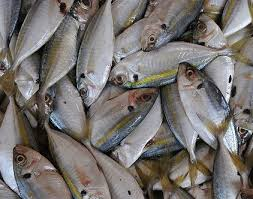Ikan Selar: (108, 41, 243, 87), (175, 59, 234, 146), (75, 1, 111, 107), (10, 138, 68, 199)
